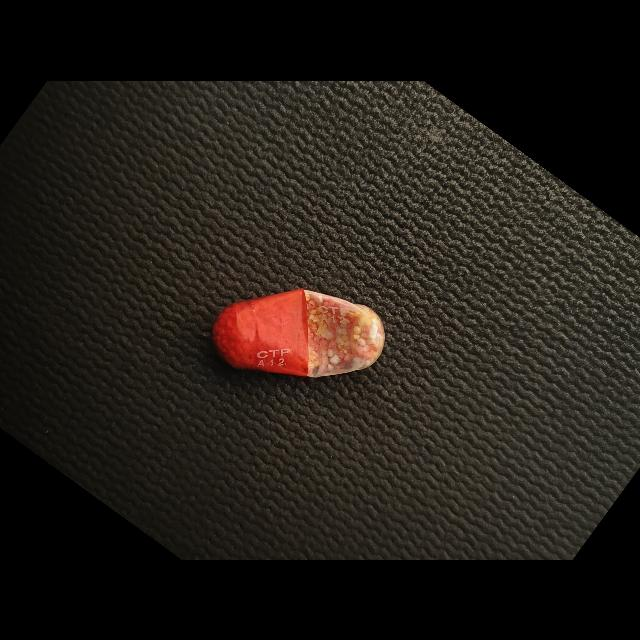Defective Capsule: (212, 287, 385, 377)
